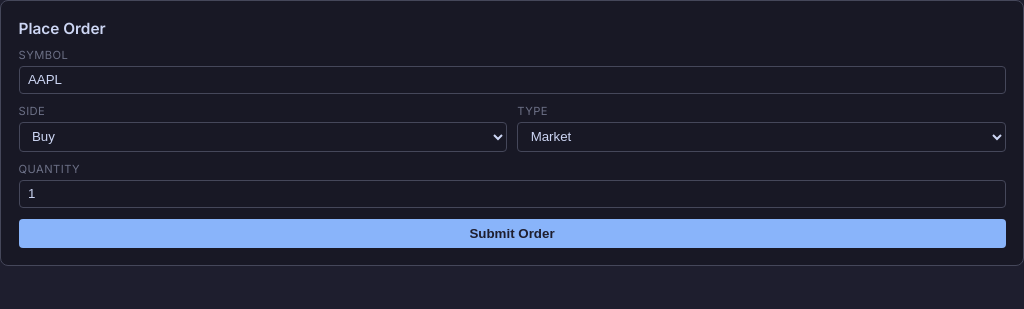
Test: OrderFormComponent › shows success message after successful order
What coordinates should you click on to do the following:
click the submit button
I would click on:
 (512, 233)
Its box is [18,219,1006,248].
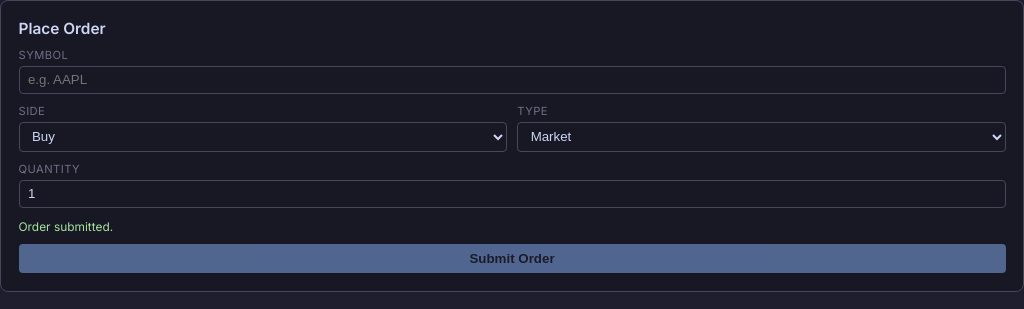
expect the text with class "form-success" shows "Order submitted": met, box [18,219,113,234]
